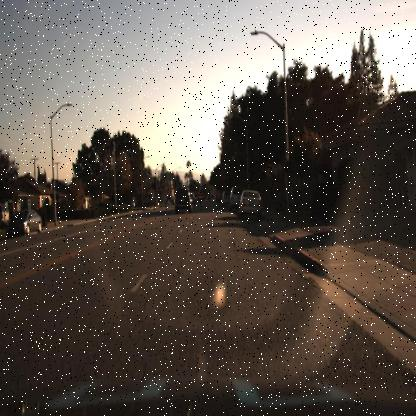car: (6, 208, 43, 240), (236, 188, 263, 216), (170, 188, 192, 218), (229, 186, 247, 208)
